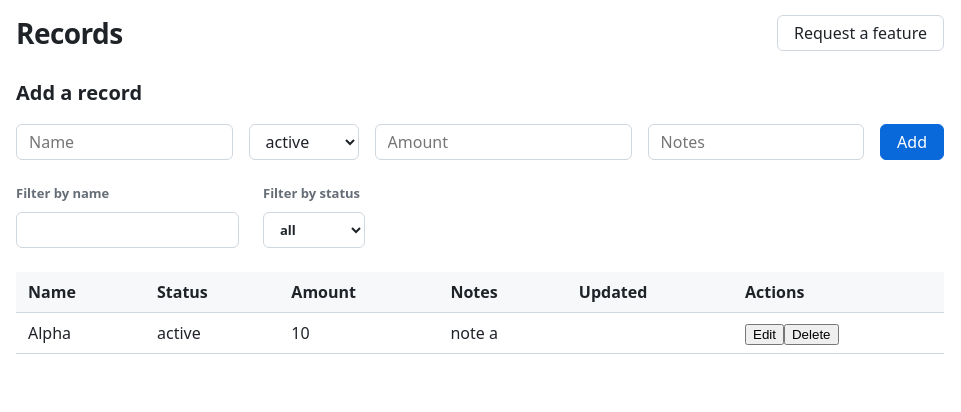
Scenario: App create › appends the record the API returns without re-fetching the list
This screenshot has width=961, height=412.
expect the text "Alpha" is shown: met, box [16, 312, 145, 353]
Type "Gamma" into the field named "New name" at (124, 142), box [16, 124, 232, 160]
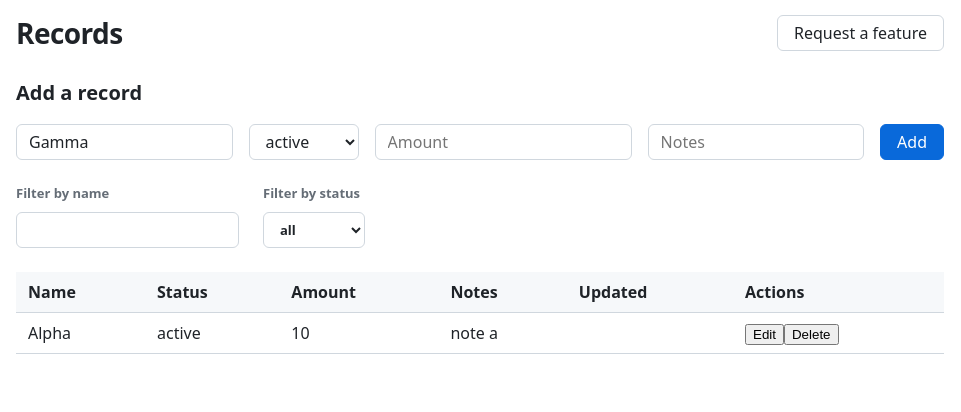
Select "pending" in the dropdown named "New status" at (304, 142), box [248, 124, 358, 160]
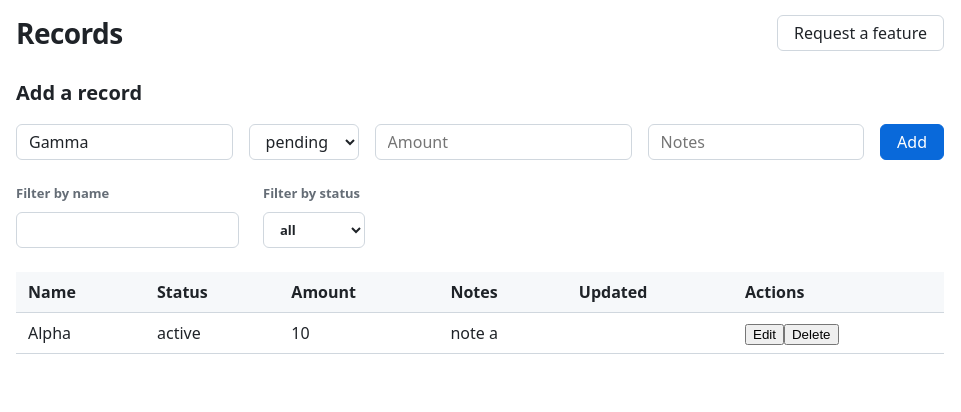
Type "42" into the number field named "New amount" at (503, 142), box [374, 124, 632, 160]
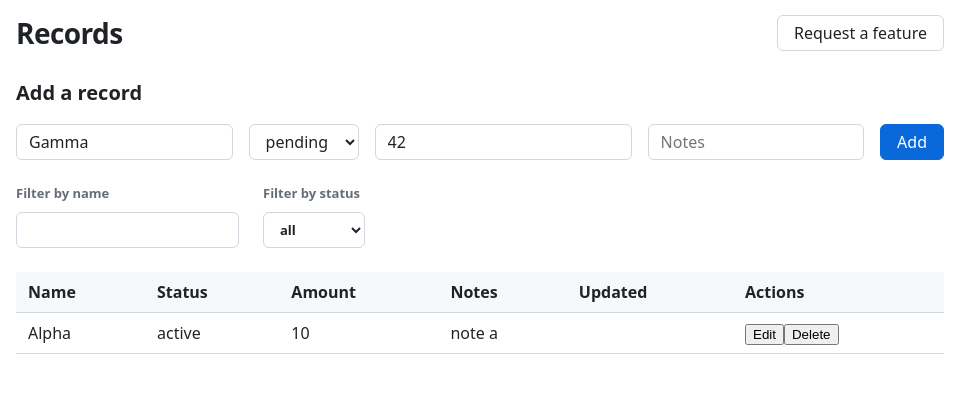
Type "fresh" into the field named "New notes" at (756, 142), box [648, 124, 864, 160]
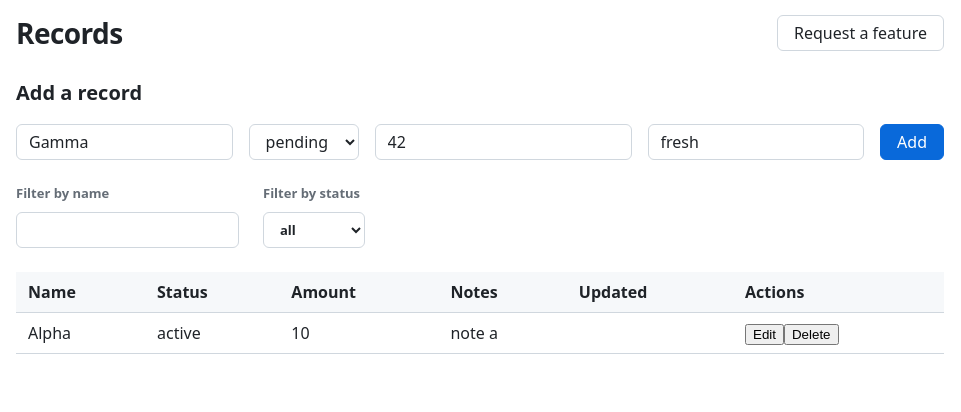
Click the button "Add" at (912, 142), box [880, 124, 944, 160]
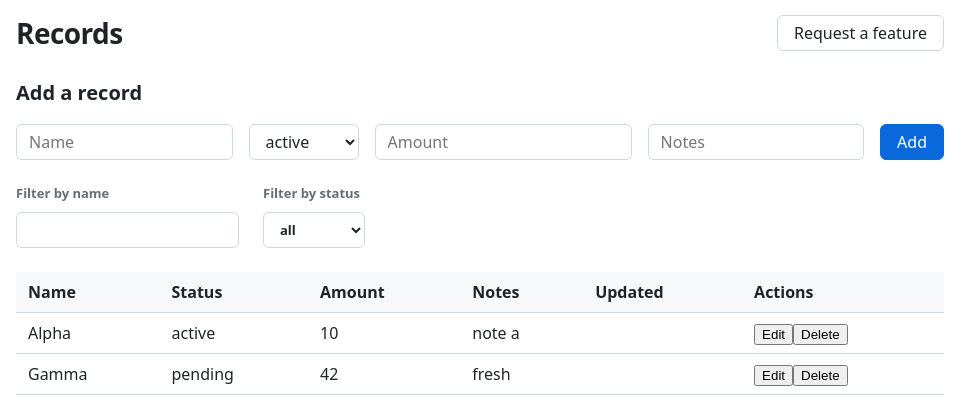
expect the text "Alpha" is shown: met, box [16, 312, 160, 353]
expect the text "Gamma" is shown: met, box [16, 353, 160, 394]
